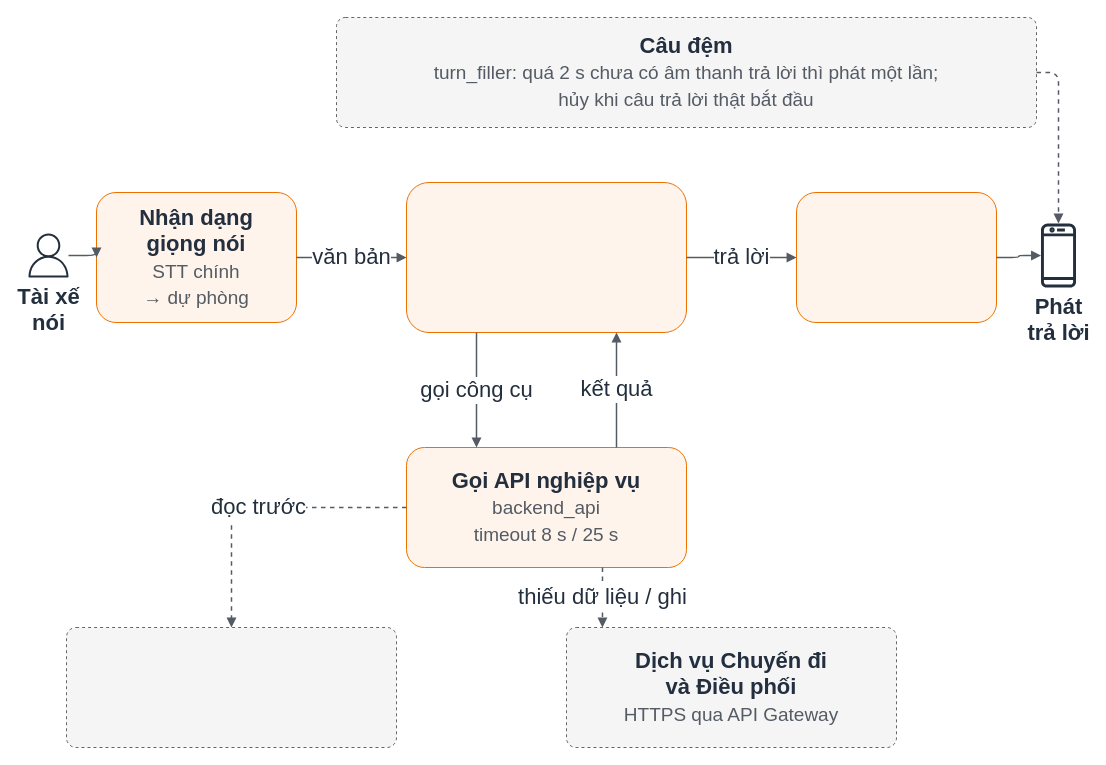
Some shapes in this 1106 by 765 pixel diagram are drawn without their labels. Here are the shapes that lost their labels. From the top down, the centre of each, then its label:
At [546,257]: "Mô hình ngôn ngữ LLM chính → dự phòng lược đồ công cụ theo loại phiên".
At [896,257]: "Tổng hợp giọng nói TTS chính → dự phòng".
At [231,687]: "Trạng thái phiên hội thoại context_store tải trước khi mở phiên".
